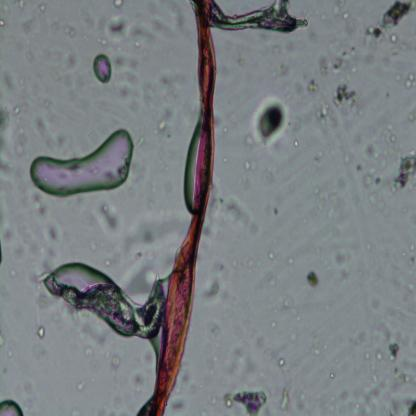Air bubble: (25, 126, 138, 197), (54, 258, 110, 288), (91, 52, 114, 84), (0, 397, 25, 416)
Background material: (110, 50, 144, 116), (130, 211, 187, 245), (253, 96, 288, 148), (70, 311, 111, 352), (104, 16, 150, 52), (124, 246, 157, 294), (39, 46, 80, 84), (2, 221, 39, 262), (224, 344, 256, 385), (43, 218, 65, 276), (223, 391, 271, 416), (32, 115, 66, 150), (219, 197, 254, 228), (94, 198, 122, 236), (380, 0, 416, 29), (392, 150, 416, 192), (330, 244, 356, 281), (152, 18, 180, 47), (105, 236, 130, 268), (204, 195, 219, 245), (14, 378, 38, 408), (156, 66, 190, 87), (30, 189, 52, 220), (333, 83, 359, 109), (100, 394, 130, 416), (316, 194, 343, 218), (0, 138, 15, 178), (355, 393, 381, 416), (314, 101, 336, 128), (12, 123, 28, 160), (176, 370, 198, 394), (369, 192, 390, 216), (172, 0, 187, 31), (283, 300, 302, 324), (2, 67, 18, 95), (165, 397, 191, 414), (131, 369, 148, 394), (130, 158, 146, 183), (32, 291, 51, 312), (0, 102, 13, 132), (159, 108, 174, 134), (198, 282, 221, 297), (392, 366, 411, 384), (30, 343, 46, 364), (55, 21, 76, 37), (15, 100, 29, 124), (232, 256, 254, 271), (368, 379, 385, 398), (142, 80, 153, 109), (337, 45, 356, 61), (379, 124, 395, 143), (262, 202, 282, 217), (213, 261, 227, 282), (380, 147, 394, 168), (331, 57, 348, 74), (278, 386, 290, 409), (379, 321, 392, 342), (292, 80, 307, 98), (272, 64, 290, 79), (388, 397, 402, 416), (260, 168, 274, 187), (237, 174, 253, 190), (366, 26, 384, 40), (141, 348, 154, 367), (213, 110, 224, 132), (346, 19, 362, 34), (271, 42, 283, 61), (38, 95, 54, 109), (313, 148, 327, 164), (390, 43, 407, 56), (307, 270, 319, 288), (295, 392, 306, 411), (310, 344, 329, 355), (72, 379, 88, 392), (253, 334, 266, 350), (242, 160, 259, 172), (366, 167, 376, 187), (346, 68, 360, 82), (365, 143, 378, 158), (22, 19, 34, 35), (389, 342, 399, 361), (374, 350, 387, 364), (68, 403, 82, 416), (320, 58, 330, 76), (87, 237, 99, 252), (404, 73, 416, 88), (111, 352, 122, 368), (328, 395, 336, 416), (6, 265, 18, 279), (307, 79, 319, 93), (370, 295, 381, 310), (0, 238, 5, 271), (334, 0, 345, 15), (407, 398, 416, 416), (90, 358, 101, 372), (94, 35, 108, 46), (268, 252, 283, 262), (36, 327, 48, 339), (338, 390, 351, 401), (246, 135, 256, 149), (284, 39, 295, 51), (18, 193, 28, 206), (308, 31, 318, 44), (351, 106, 364, 116), (381, 55, 390, 69), (267, 277, 277, 289), (390, 382, 402, 392), (356, 162, 368, 172), (408, 213, 416, 228), (407, 281, 416, 294), (136, 135, 145, 148), (86, 346, 94, 360), (110, 0, 124, 8), (236, 54, 244, 68), (408, 108, 416, 122), (250, 225, 260, 236), (0, 331, 6, 349), (2, 2, 10, 15), (15, 0, 26, 9), (358, 330, 365, 344), (279, 367, 291, 375), (36, 3, 48, 11), (390, 32, 398, 44), (364, 242, 373, 252), (404, 395, 412, 406), (408, 255, 416, 266), (291, 137, 299, 148), (211, 394, 218, 406), (323, 300, 330, 312), (277, 357, 286, 366), (6, 349, 15, 358), (269, 320, 277, 329), (363, 352, 372, 360), (287, 257, 295, 265), (370, 365, 378, 373), (342, 12, 351, 19), (410, 243, 416, 253), (345, 154, 351, 164), (406, 268, 413, 276), (288, 266, 295, 274), (371, 375, 379, 382), (231, 115, 238, 123), (375, 176, 380, 186), (293, 334, 299, 342), (322, 12, 328, 20), (0, 17, 4, 28), (223, 126, 228, 134), (314, 9, 319, 17), (384, 92, 390, 98), (396, 76, 402, 82), (330, 373, 335, 380), (223, 158, 228, 165), (402, 252, 406, 257)
Cellulose filter fibre: (41, 276, 166, 341), (211, 0, 310, 36)
Cotton: (146, 0, 214, 414)
